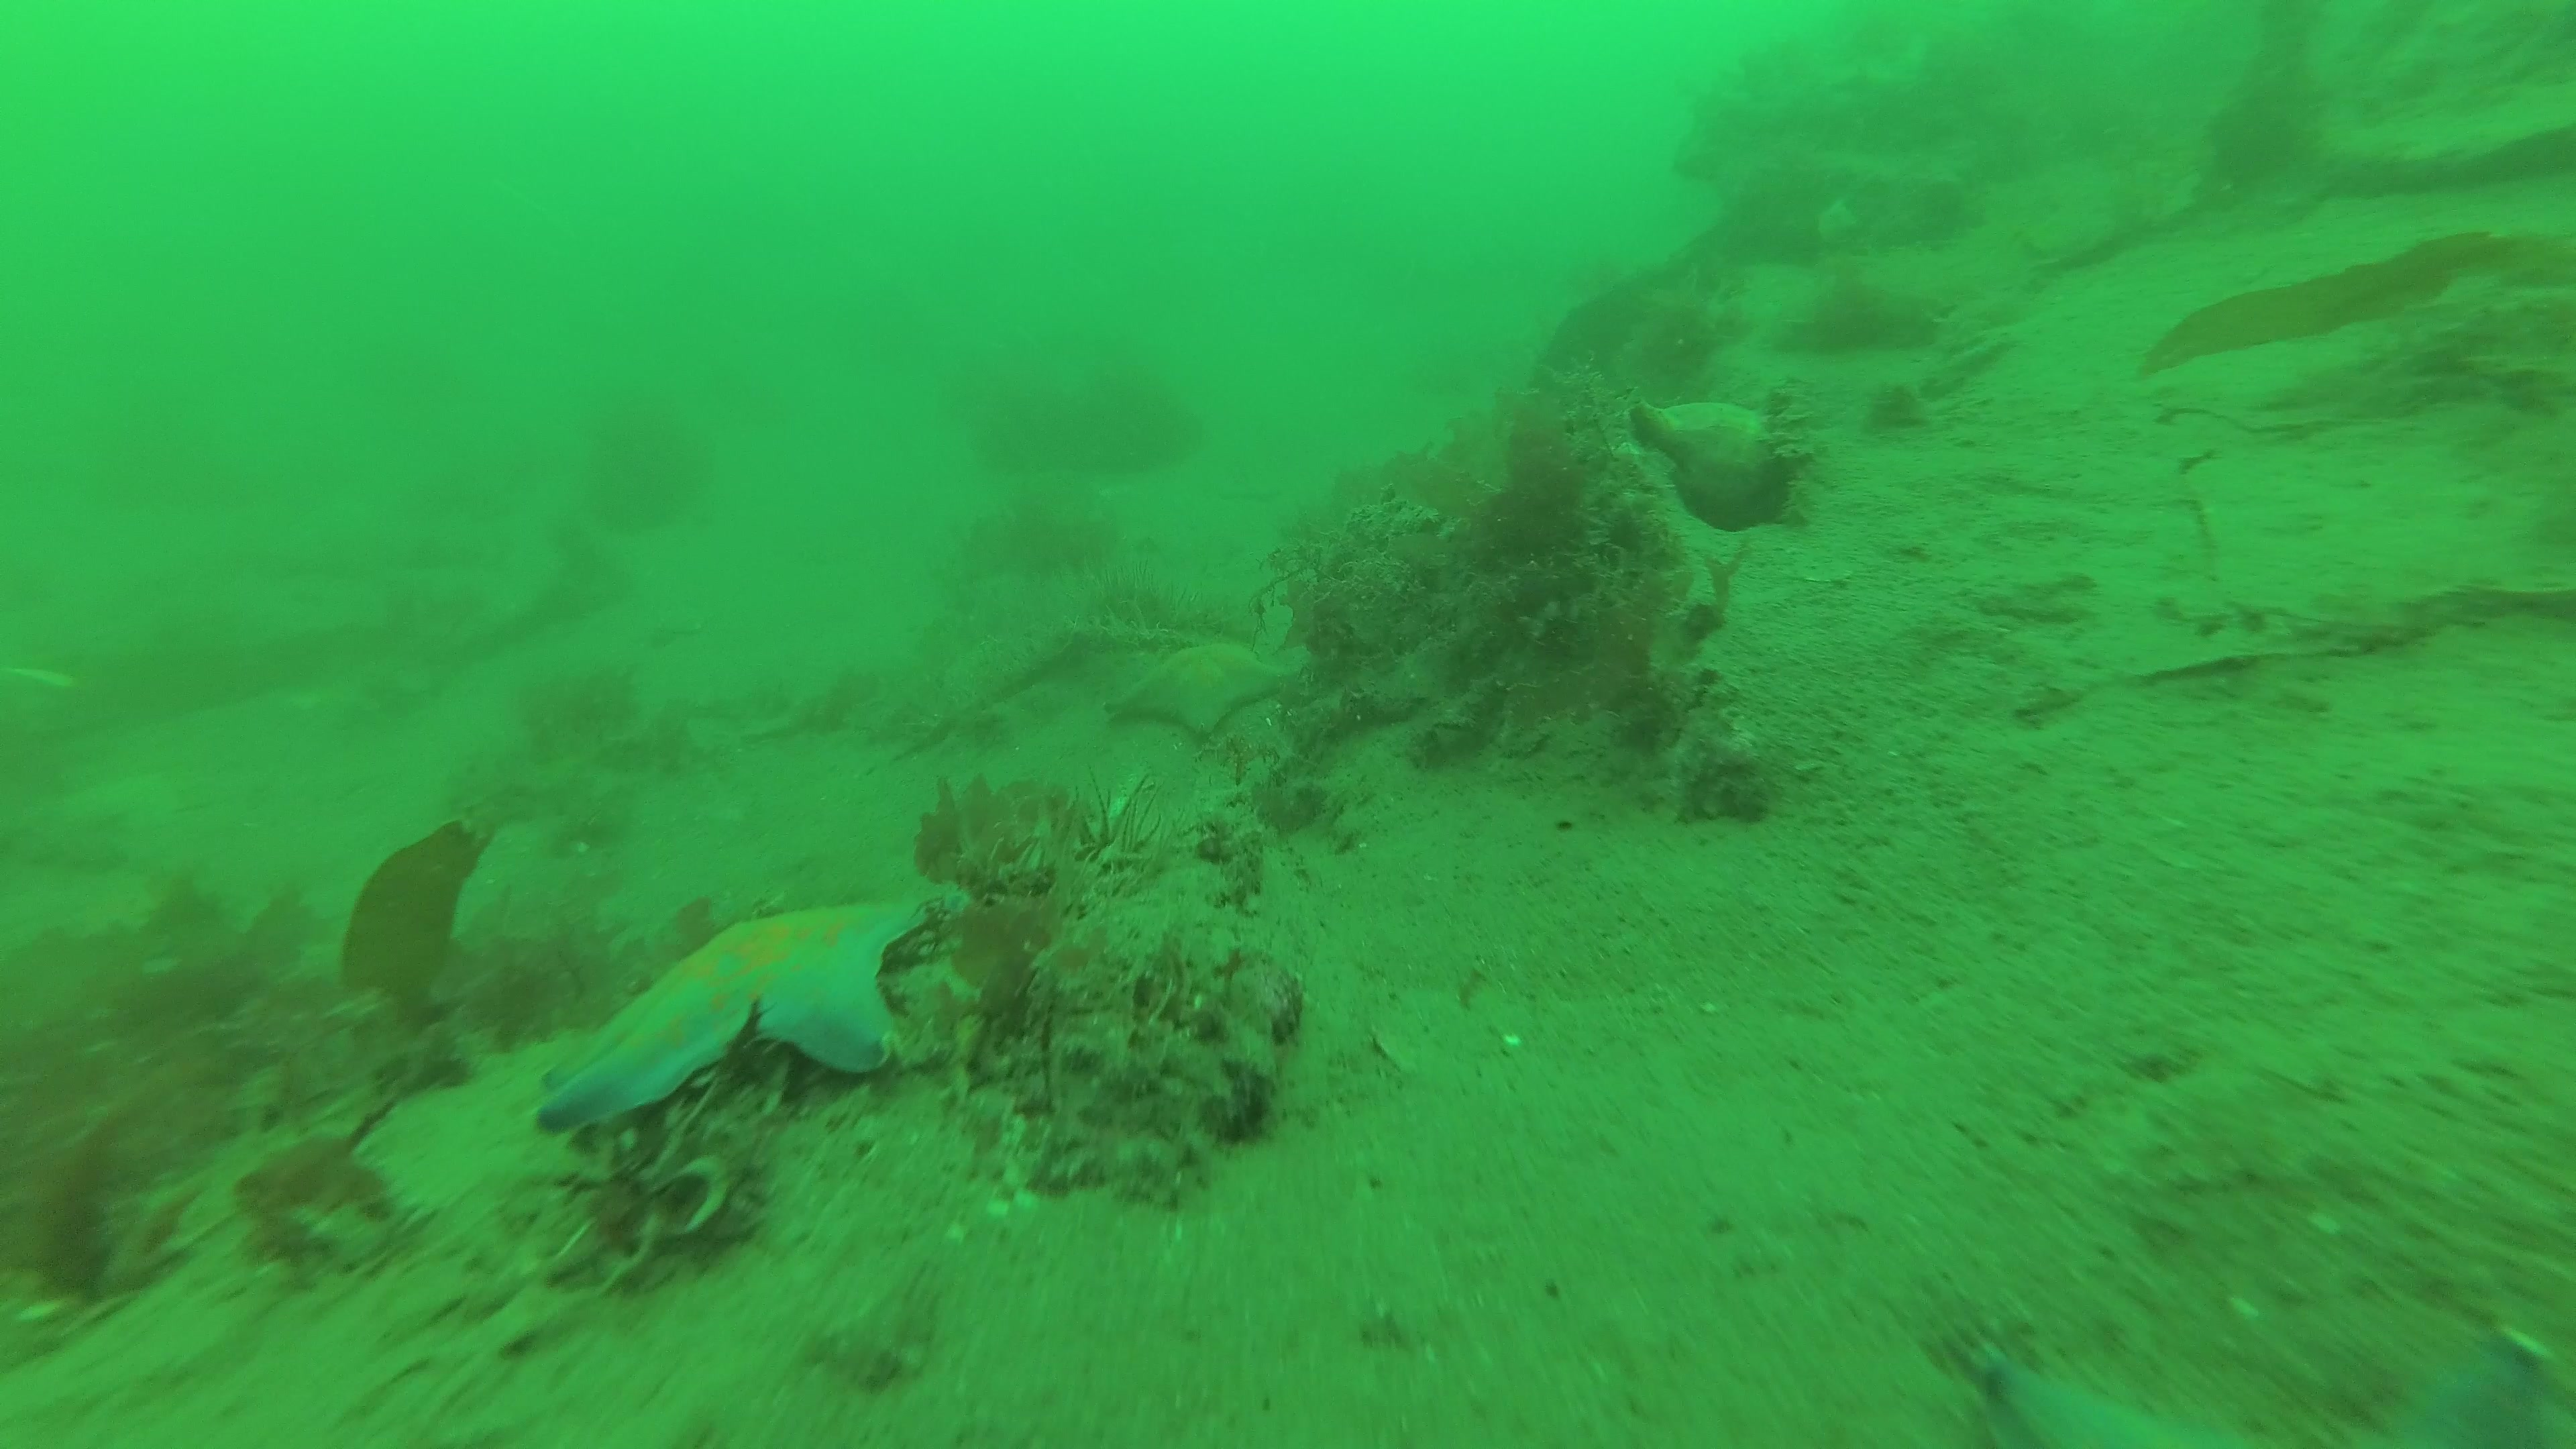starfish: (540, 899, 945, 1127), (1104, 644, 1299, 736)
